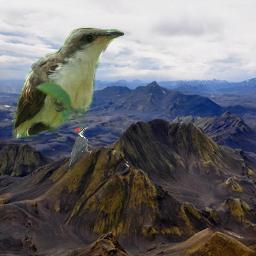Cuckoo: (11, 27, 124, 141)
Woodpecker: (66, 125, 92, 171)
